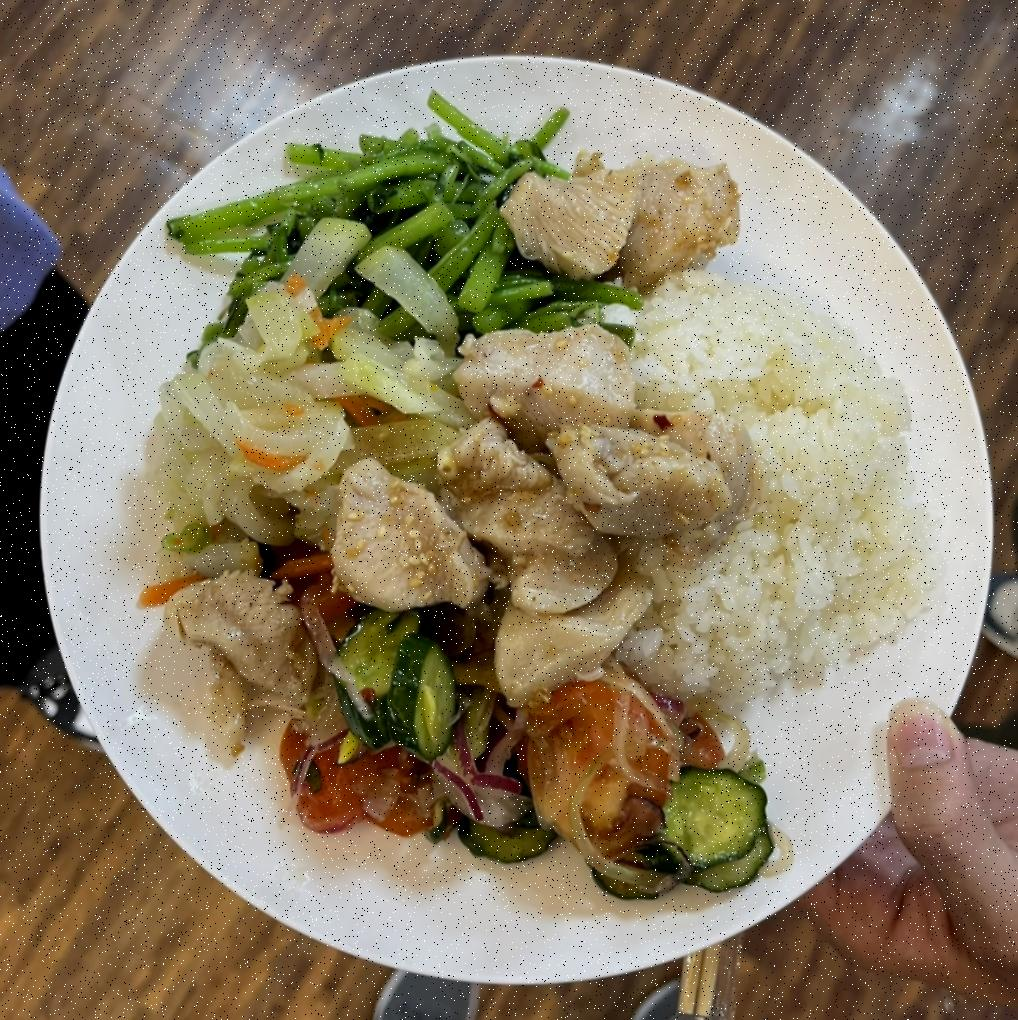plate: (46, 35, 1002, 988)
scallion chicken: (340, 150, 746, 708)
side dish: (256, 634, 805, 890), (132, 273, 470, 588), (180, 110, 606, 356)
white rice: (576, 268, 946, 694)
